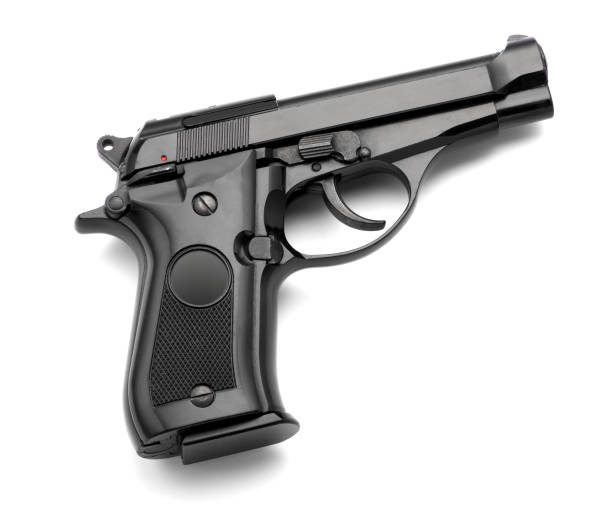pistol: (69, 29, 567, 460)
